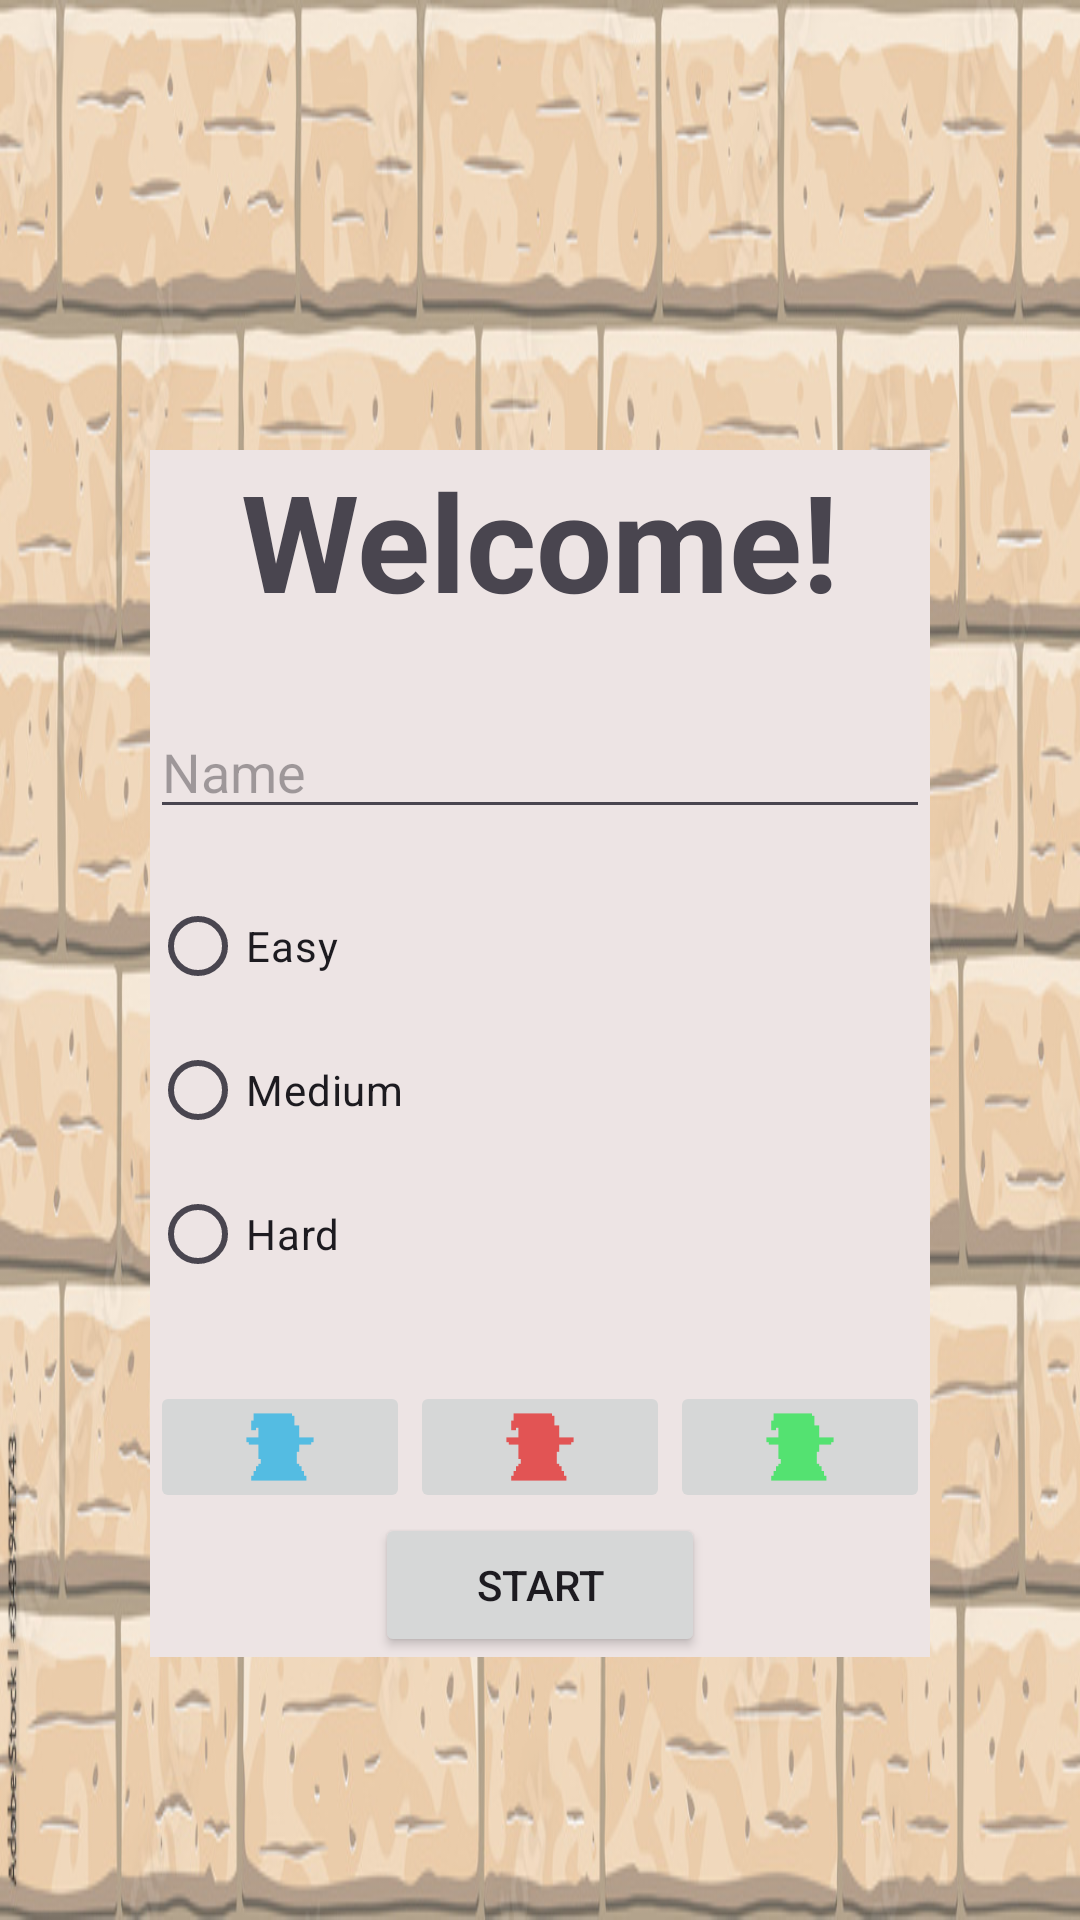

Icon click points for this 1080x1920 phone screenshot, format (x,y):
wizard: (280,1447), (540,1447), (800,1447)
